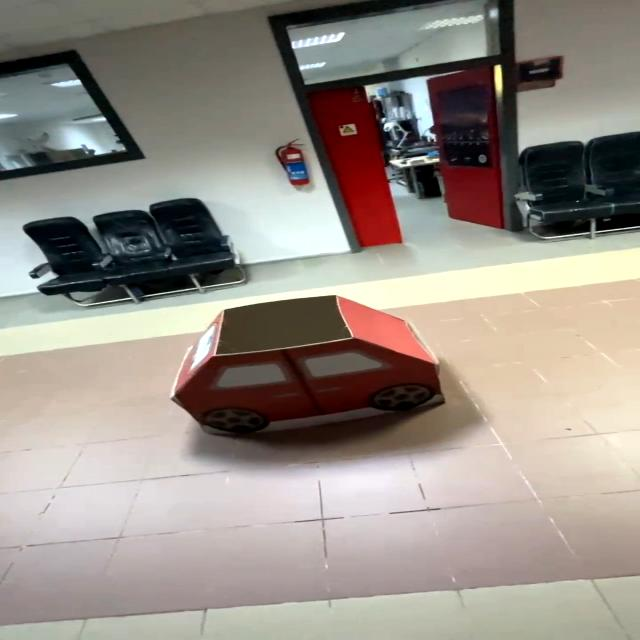red_car: (139, 283, 473, 471)
